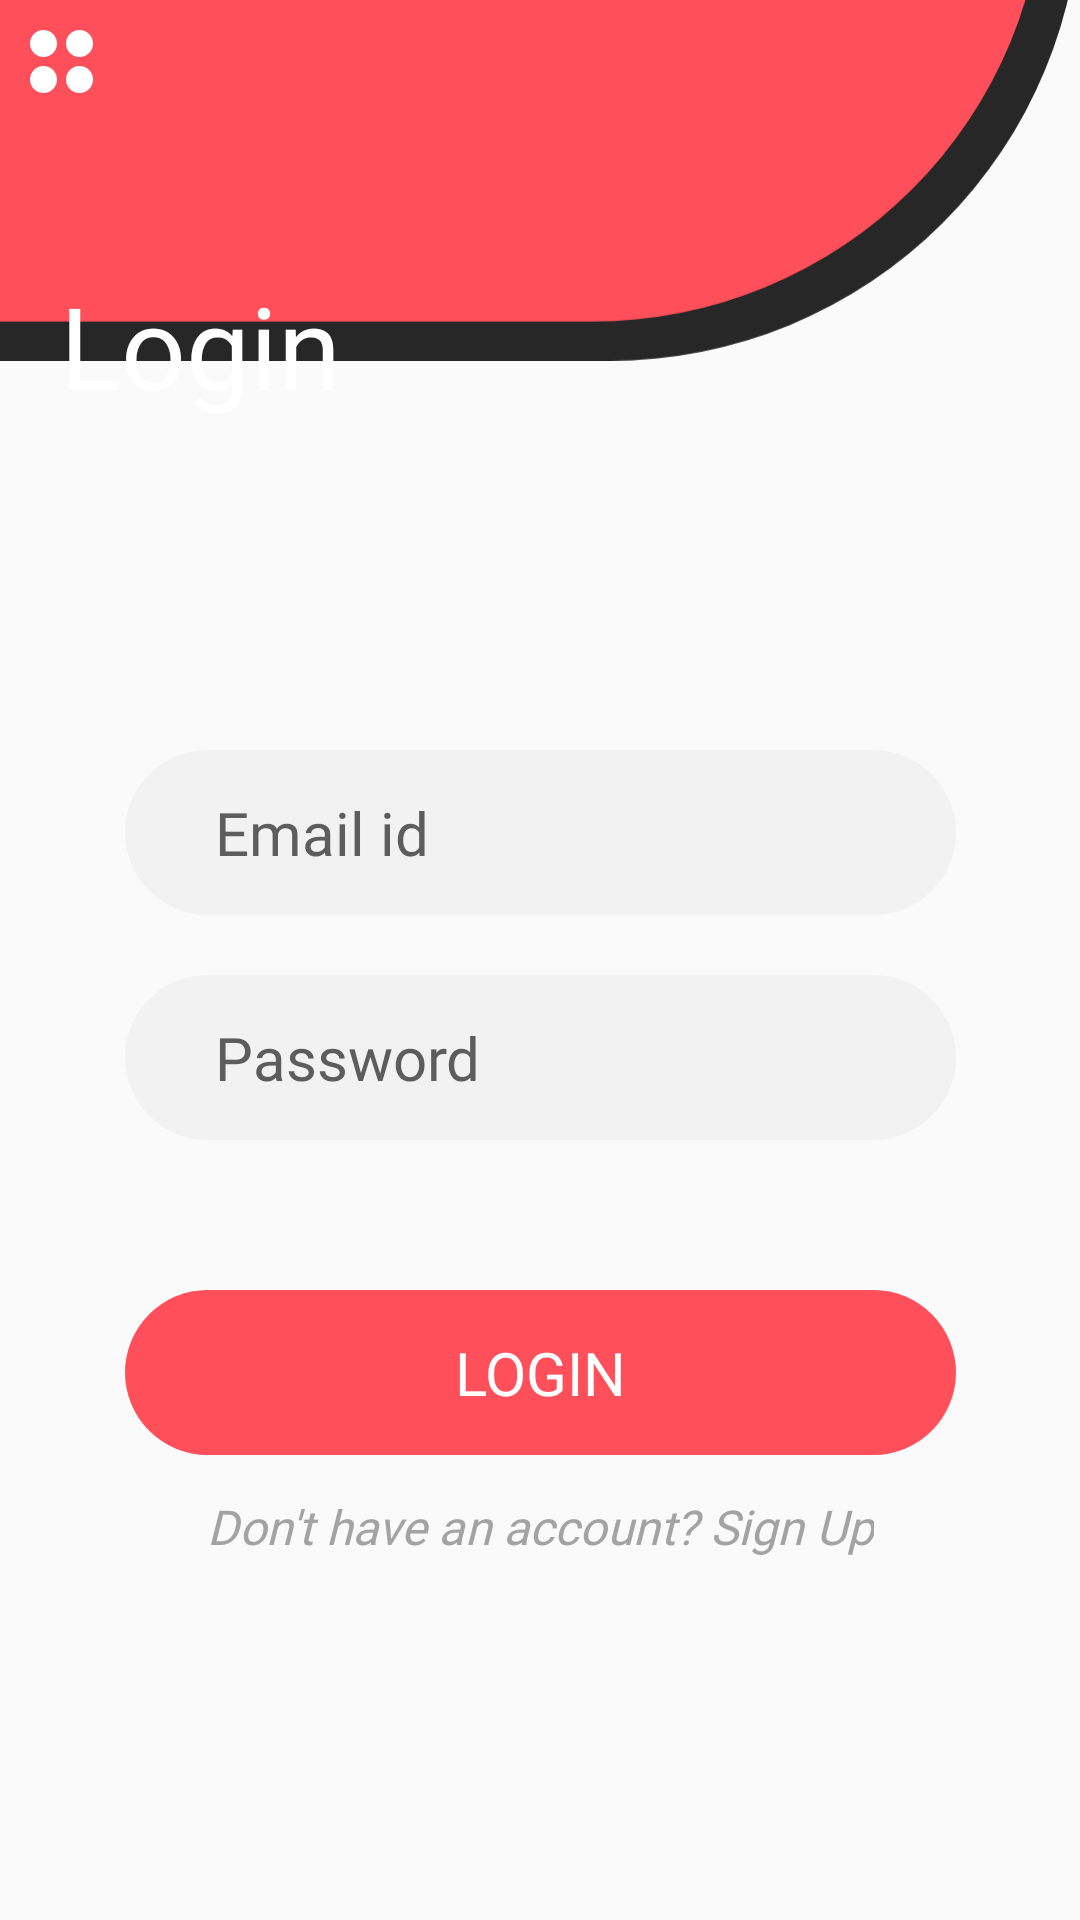

Icons on this 1080*1920 Android screen, each with the point to tap as (x,y):
dots: (61,61)
